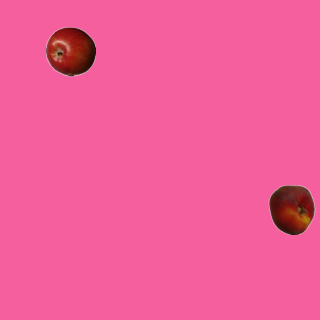Apple Braeburn: (45, 26, 95, 76)
Nectarine Flat: (266, 184, 316, 234)
